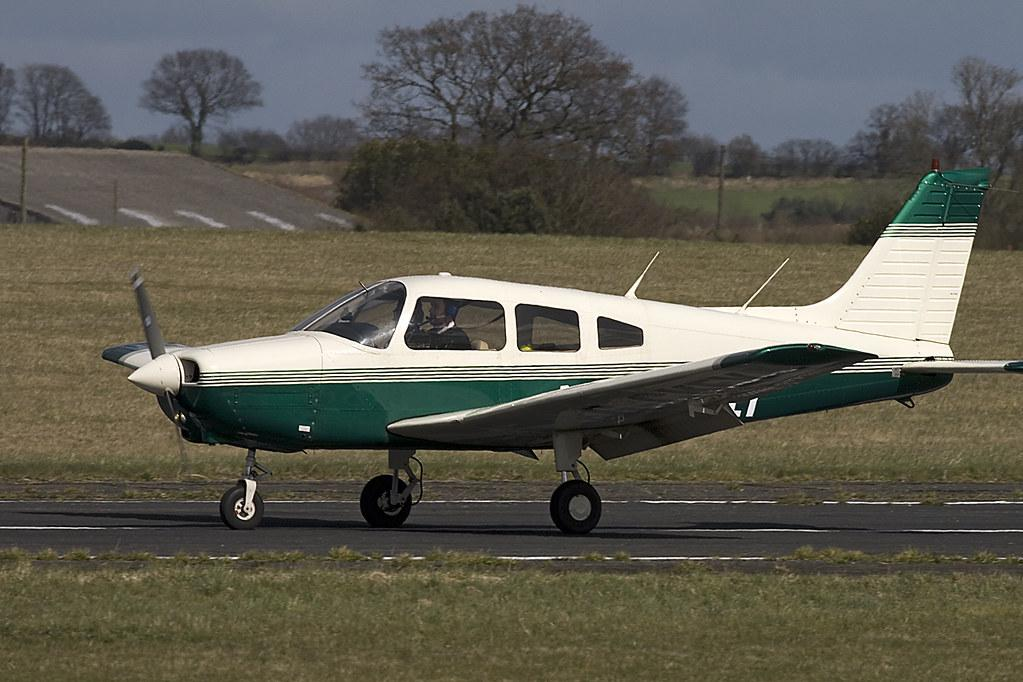plane: (101, 158, 1022, 535)
